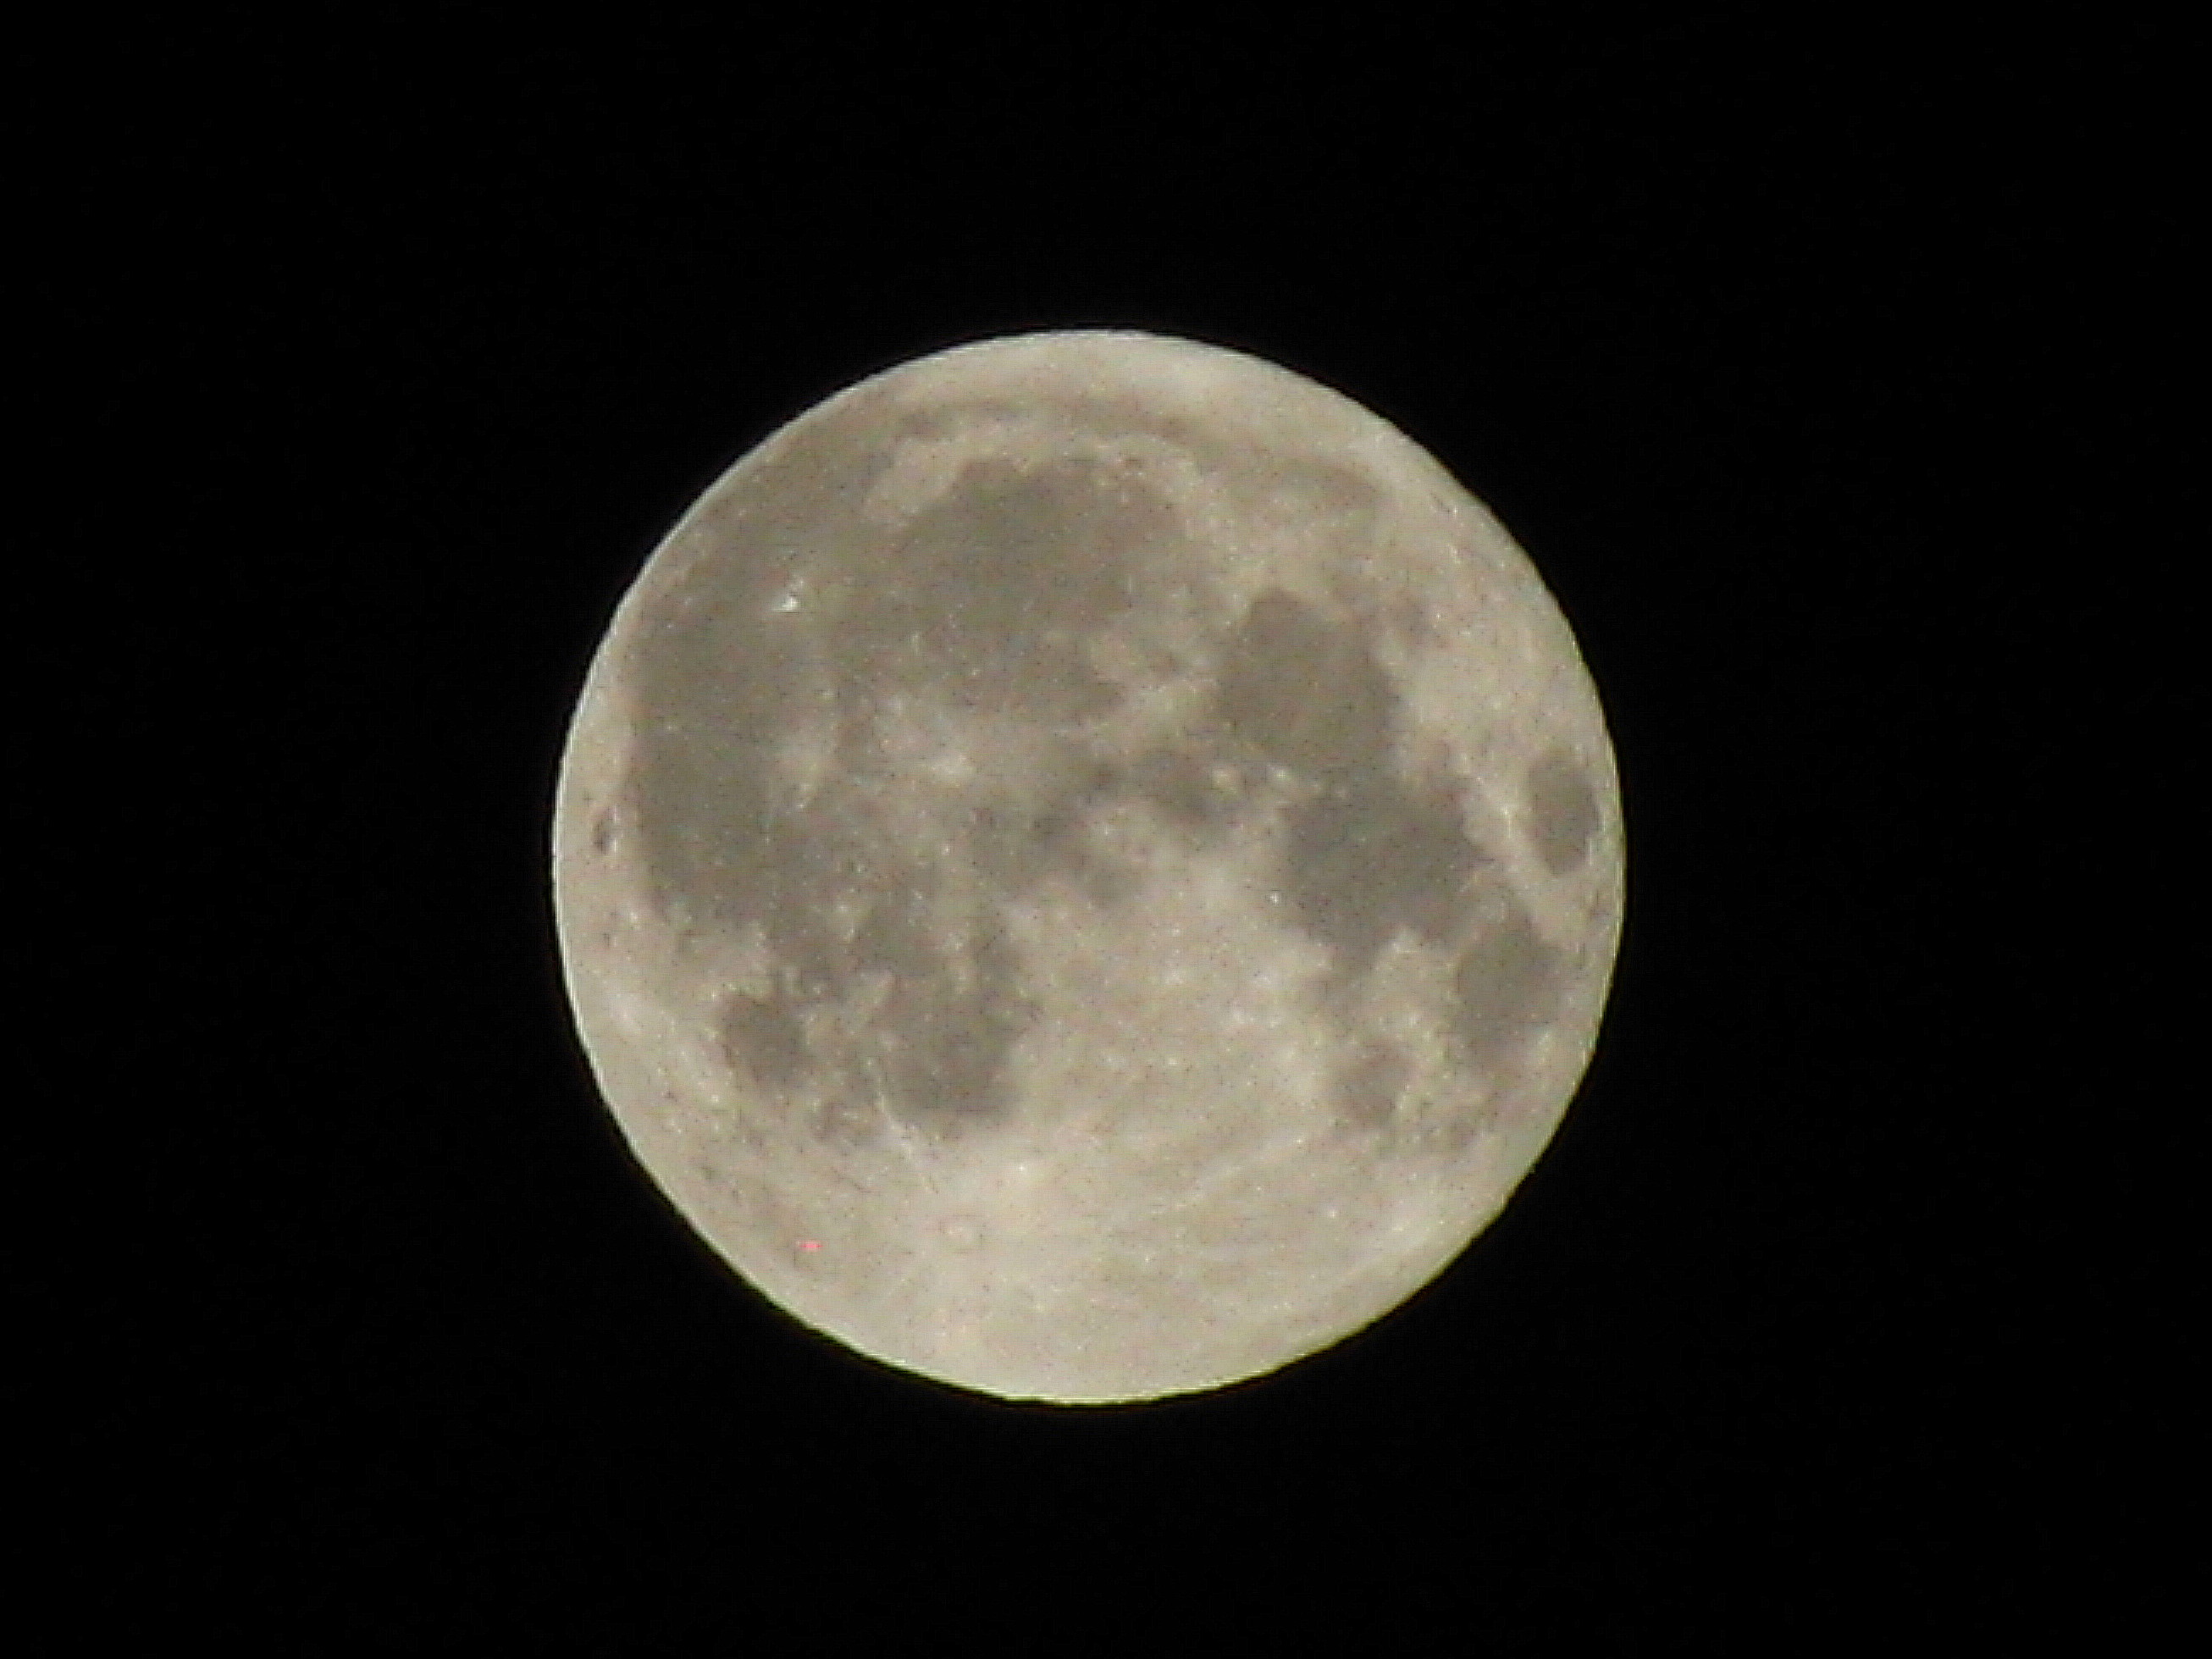crater: (897, 1190, 1021, 1284), (909, 727, 1008, 807), (758, 572, 840, 641), (578, 796, 634, 866), (1305, 1192, 1360, 1243), (1245, 878, 1294, 920), (953, 650, 995, 697), (1160, 1047, 1198, 1080), (1157, 491, 1186, 526)
